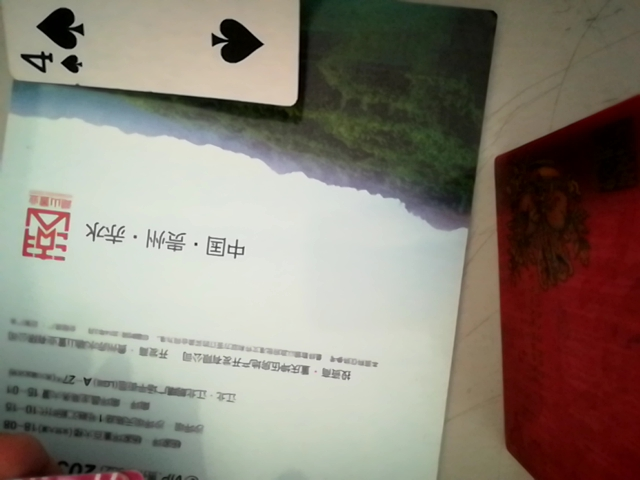ht 4: (3, 0, 350, 111)
